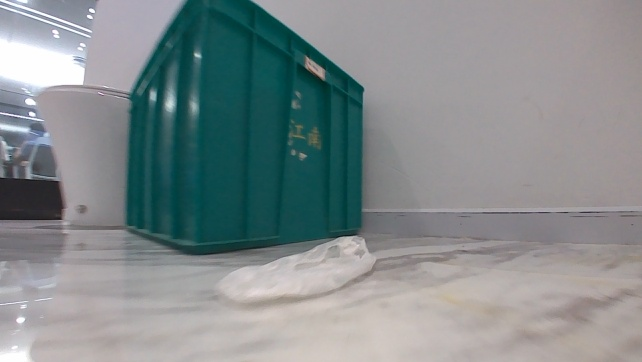socks: (216, 231, 380, 305)
toilet: (32, 81, 133, 229)
